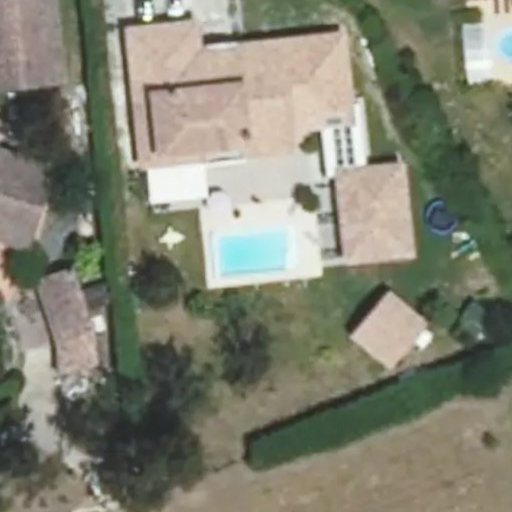pool: (211, 217, 299, 264)
